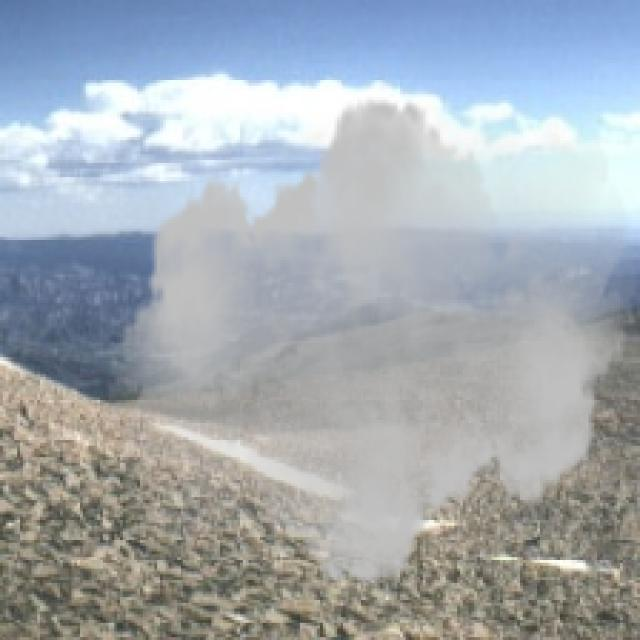Smoke: (108, 77, 638, 606)
